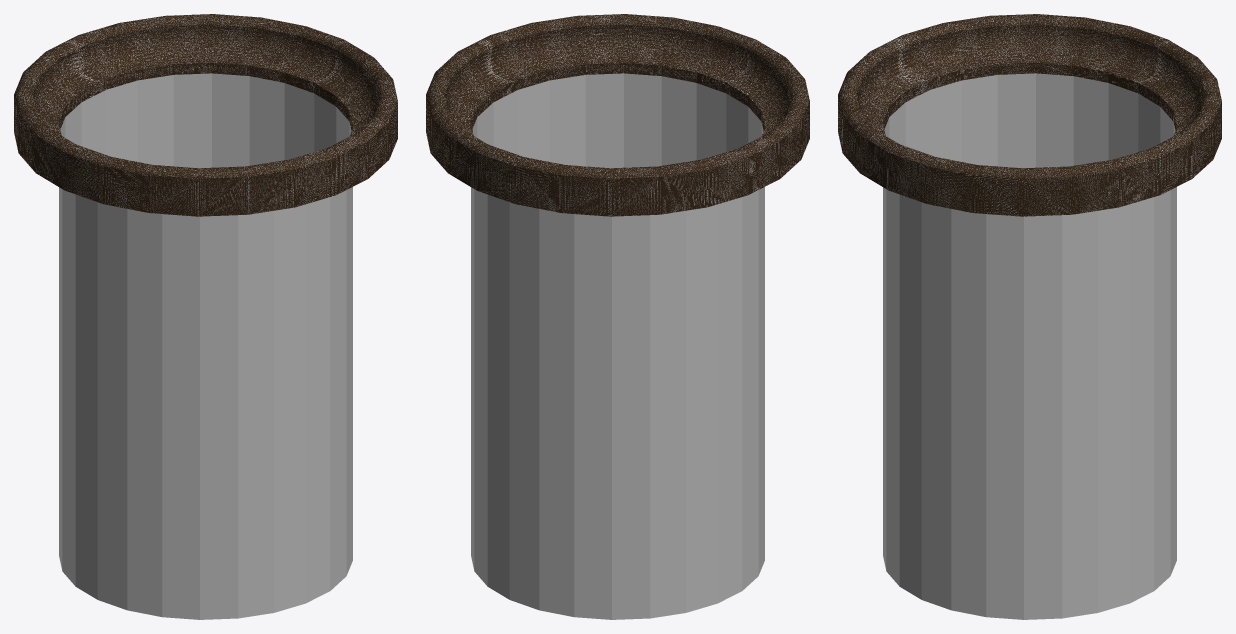
The picture shows the model from 3 angles, left to right: view 1: azimuth 30°, elevation 25°; view 2: azimuth 150°, elevation 25°; view 3: azimuth 270°, elevation 25°; orthographic projection.
Visible parts, largest first — view 1: mesh1_mesh1-geometry; view 2: mesh1_mesh1-geometry; view 3: mesh1_mesh1-geometry.
Part boxes in pixels (x1,y1,x2,y2): mesh1_mesh1-geometry: (14,14,397,619); mesh1_mesh1-geometry: (426,14,809,619); mesh1_mesh1-geometry: (838,14,1221,619).
Size of the model in its own units: 0.5135 by 0.6875 by 0.5135.
